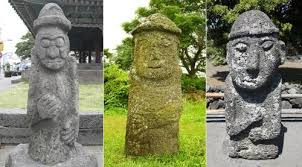Stone Statue: (17, 1, 88, 167), (115, 6, 189, 165), (216, 5, 290, 163)
